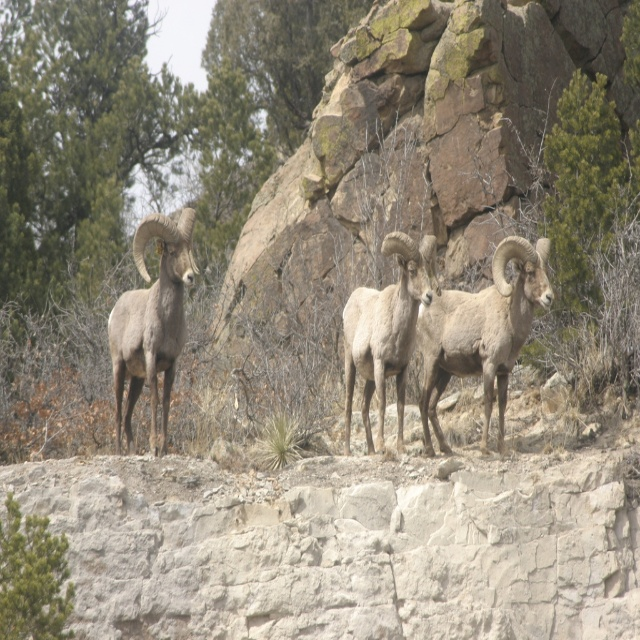Sheep: (415, 236, 555, 455), (108, 208, 200, 457), (343, 231, 442, 456)
